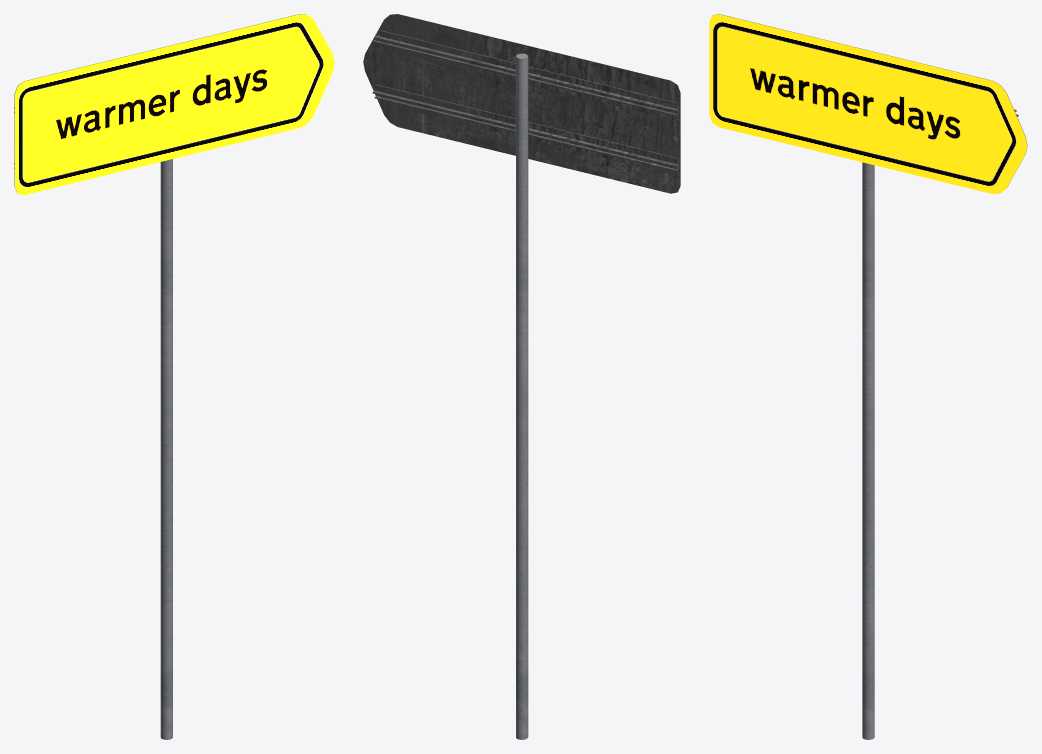
File: warmer-days.gltf
3 views of the same model, side by side, from view 1: azimuth 30°, elevation 25°; view 2: azimuth 150°, elevation 25°; view 3: azimuth 330°, elevation 25° (orthographic).
Parts seen in each view (by area): view 1: Sign_M_1.5_.013, PoleA_50.8_2800mm_A_.018; view 2: Sign_M_1.5_.013, PoleA_50.8_2800mm_A_.018; view 3: Sign_M_1.5_.013, PoleA_50.8_2800mm_A_.018.
Boxes of the visible parts, bbox=[...] form: Sign_M_1.5_.013: bbox=[14, 14, 334, 194]; PoleA_50.8_2800mm_A_.018: bbox=[160, 159, 172, 739]; Sign_M_1.5_.013: bbox=[363, 14, 680, 193]; PoleA_50.8_2800mm_A_.018: bbox=[516, 53, 528, 739]; Sign_M_1.5_.013: bbox=[709, 14, 1027, 193]; PoleA_50.8_2800mm_A_.018: bbox=[862, 162, 874, 739].
Bounding box in the file's own units: 1.02 × 2.12 × 0.0397.
Materials: 4 (4 with a texture image).
